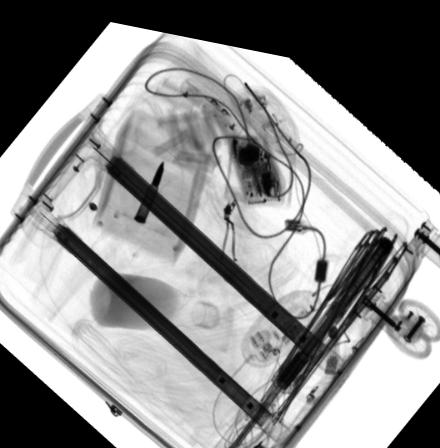Bullet: (132, 152, 164, 216)
